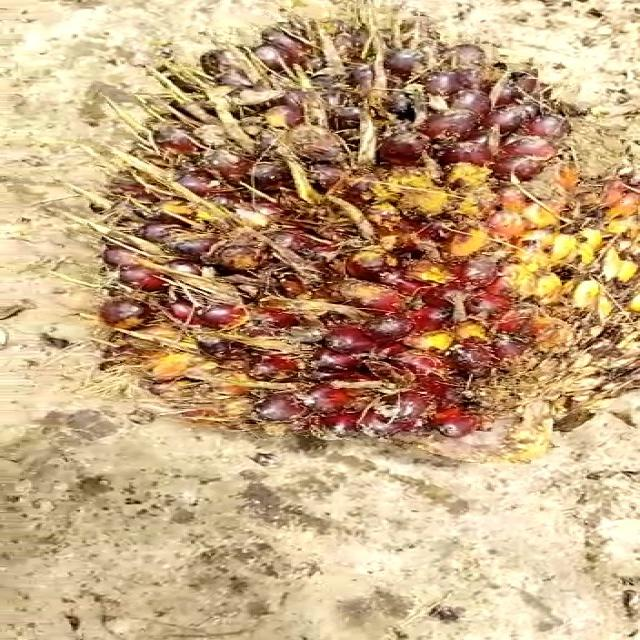palm oil: (99, 21, 640, 444)
